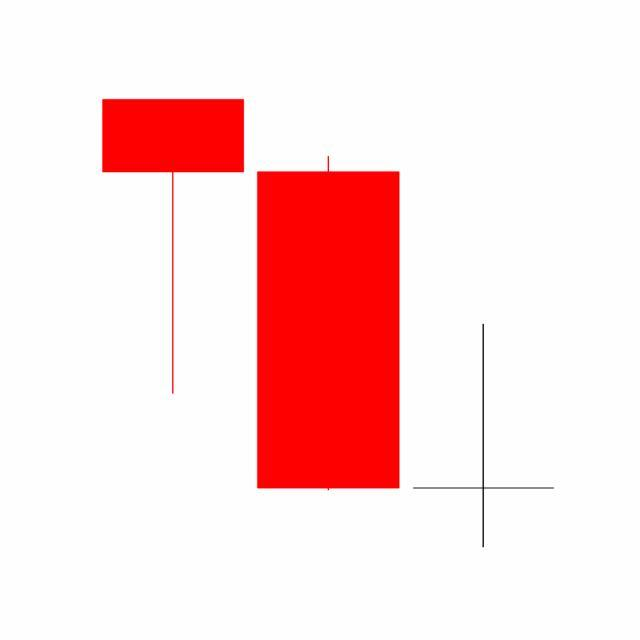Marubozu: (250, 153, 407, 495)
